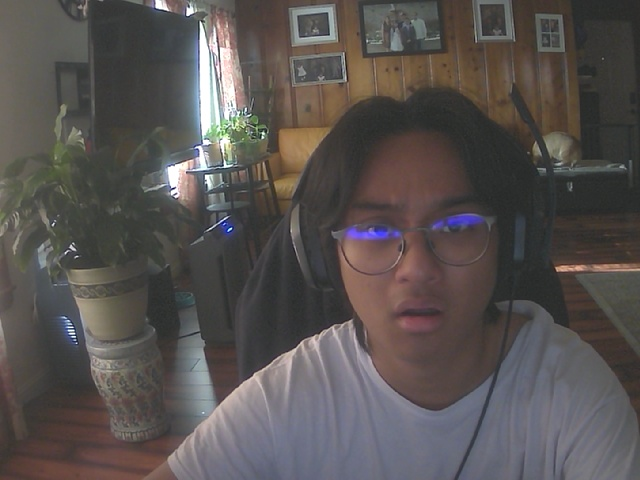fear: (332, 125, 504, 355)
